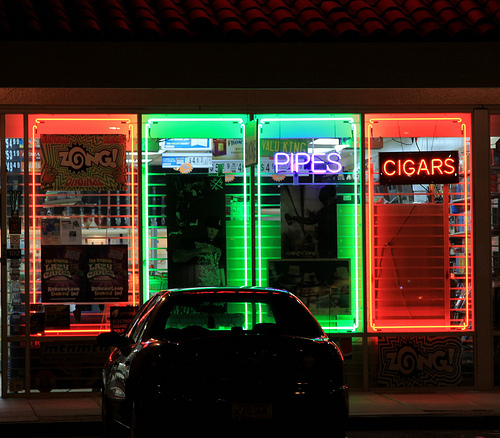car: (89, 282, 359, 438)
